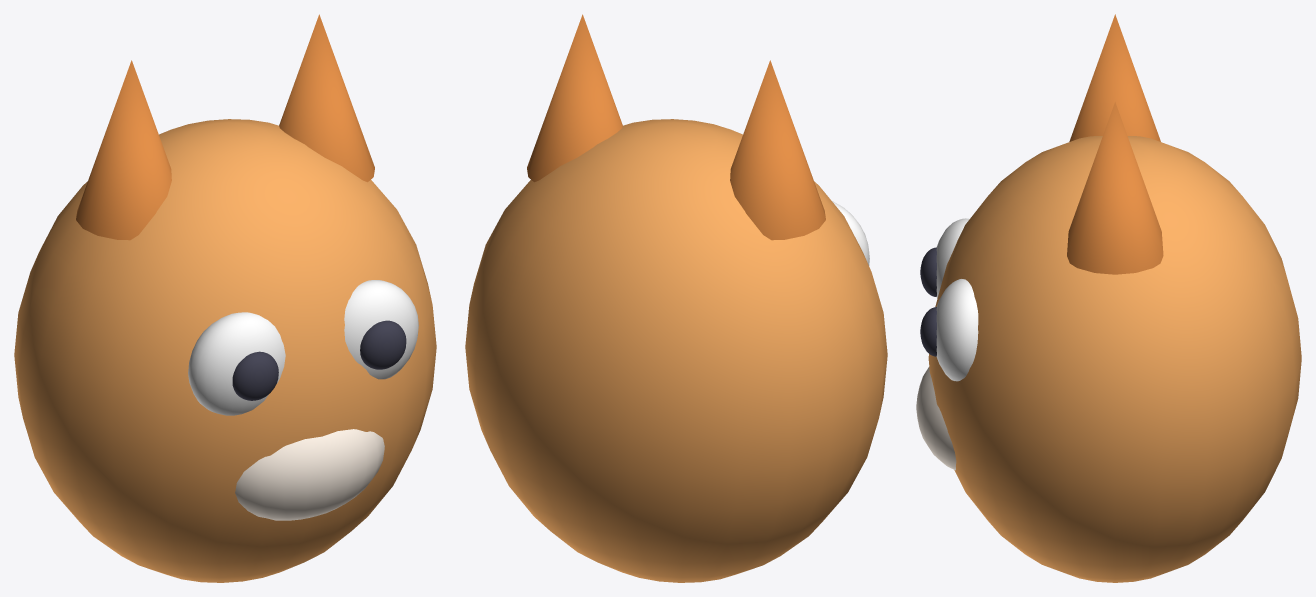
The model's file is ember-fox.glb.
The picture shows the model from 3 angles, left to right: view 1: azimuth 30°, elevation 25°; view 2: azimuth 150°, elevation 25°; view 3: azimuth 270°, elevation 25°; orthographic projection. The views are drawn at different scales.
Parts seen in each view (by area): view 1: ember-fox; view 2: ember-fox; view 3: ember-fox.
Boxes of the visible parts, x1,y1,x2,y2 form: ember-fox: (14, 14, 436, 582); ember-fox: (465, 14, 887, 582); ember-fox: (916, 14, 1301, 582).
Bounding box in the file's own units: 1 × 1.35 × 0.93.
